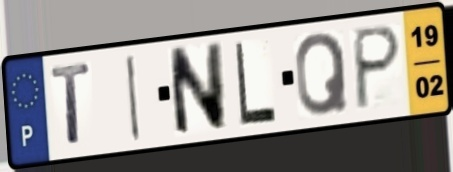I: (124, 51, 143, 144)
L: (233, 39, 279, 128)
N: (166, 39, 229, 141)
P: (353, 22, 405, 114)
Q: (294, 29, 352, 119)
T: (48, 60, 94, 148)
